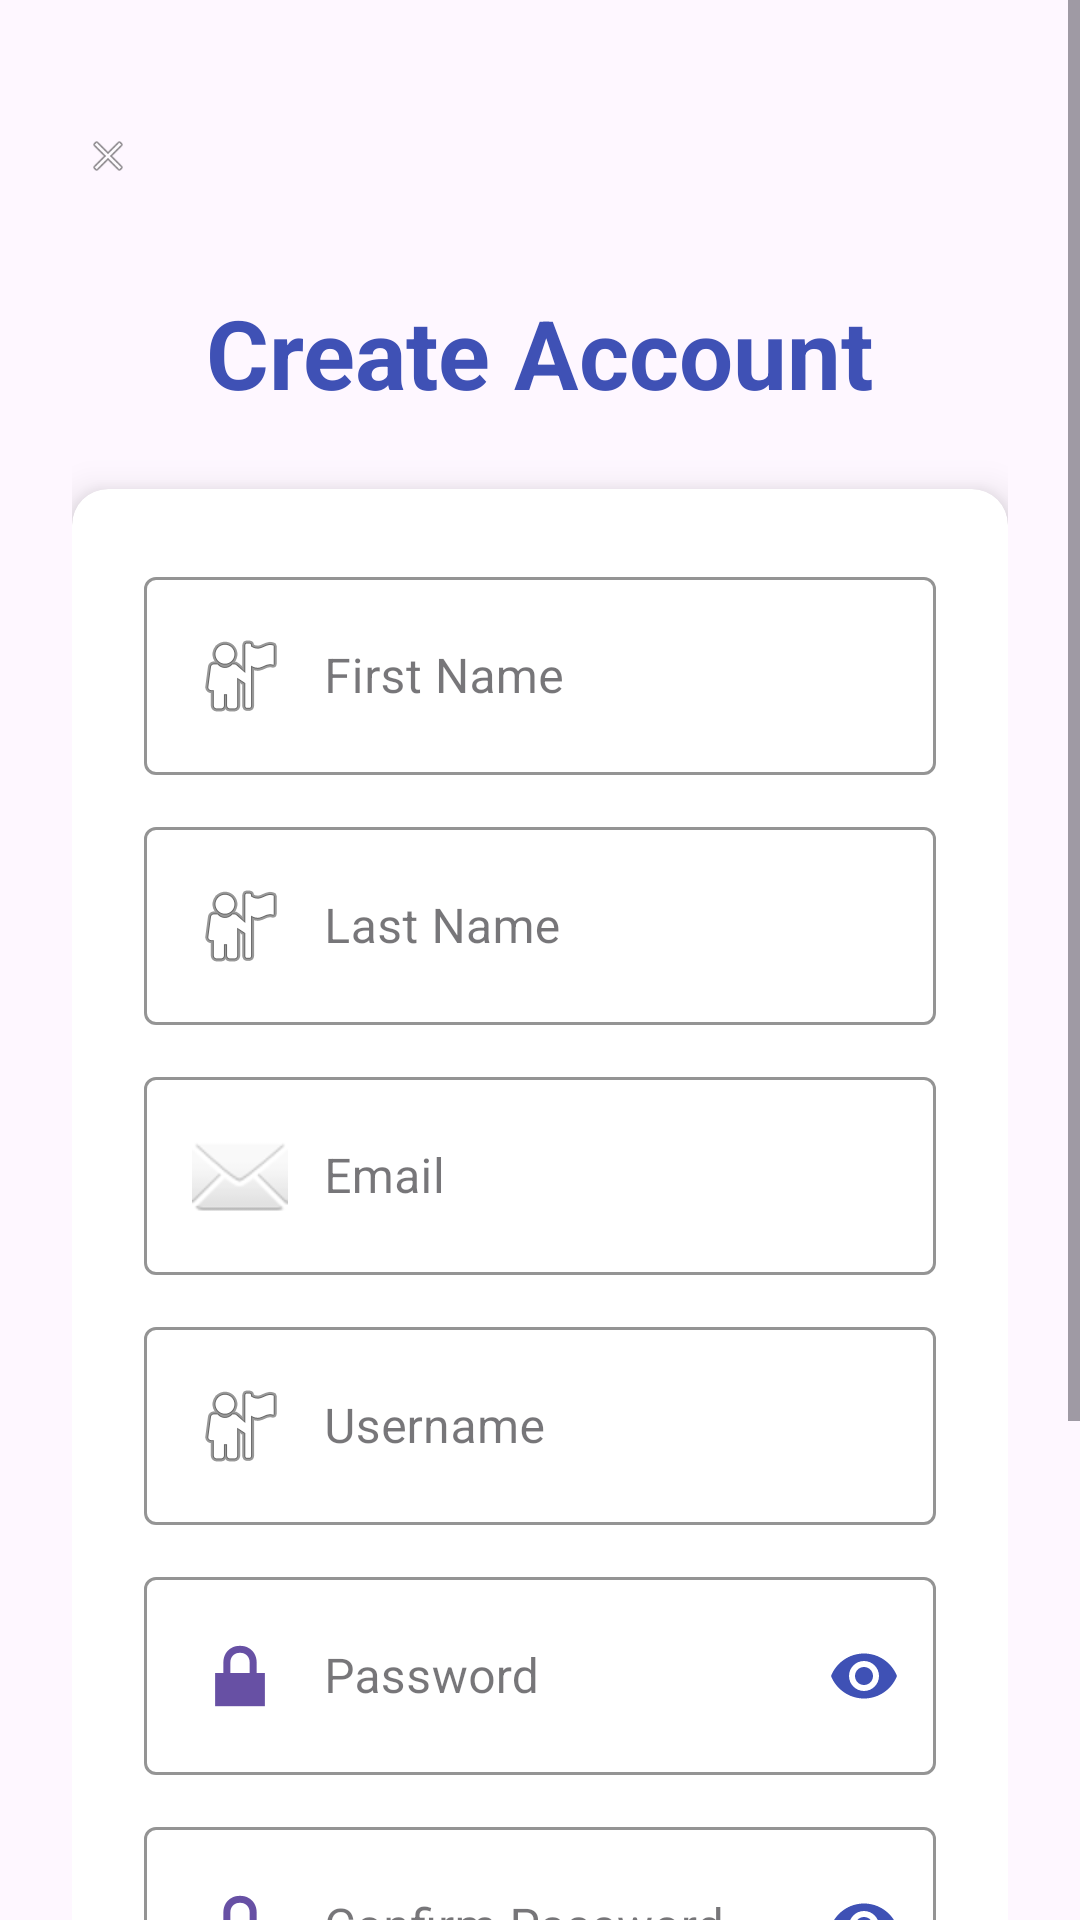

Named icons in this screenshot (1080x1920) and their centers, point (x, y):
close clear cancel: point (108, 156)
